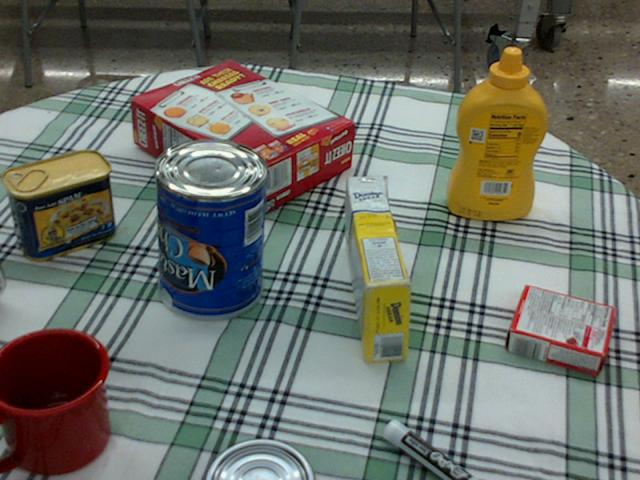cracker_box: (129, 62, 353, 213)
gelatin_box: (505, 285, 612, 376)
large_marker: (383, 419, 477, 479)
master_chef_can: (151, 138, 265, 320)
mug: (0, 324, 106, 471)
mustard_bottle: (445, 47, 546, 219)
potted_meat_can: (3, 149, 115, 260)
sugar_box: (344, 177, 410, 360)
tomato_soup_can: (0, 268, 3, 293)
tuna_fish_can: (201, 440, 312, 479)
